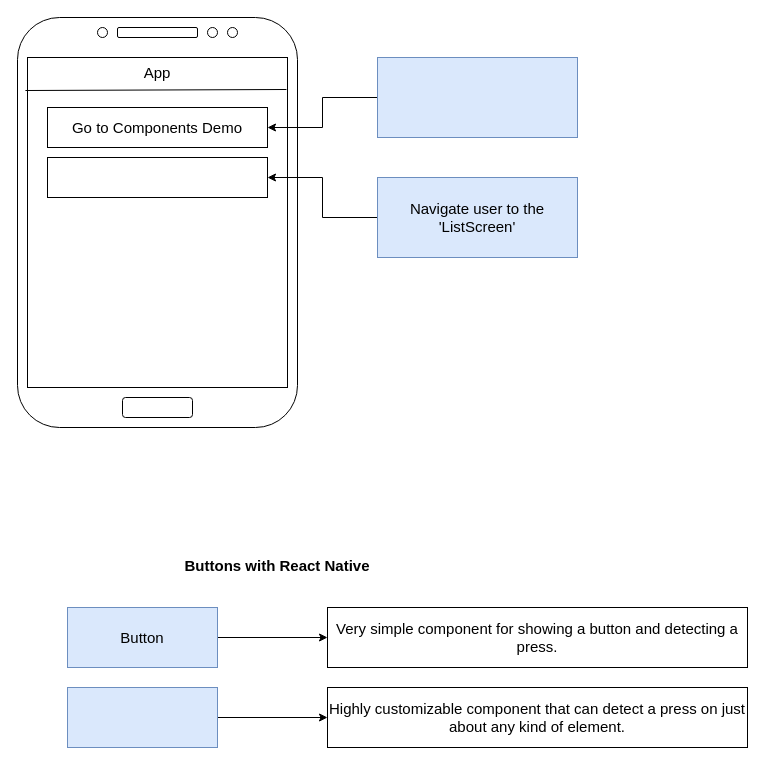
Some shapes in this 765 by 765 pixel diagram are drawn without their labels. The shapes that lost their labels are listed below. From the top down, each one's box as (x1, y1, x2, y2) in pixels, then its label:
(376, 56, 578, 138): Navigate user to the 'ComponentScreen'
(46, 156, 268, 198): Go to List Demo
(66, 686, 218, 748): TouchableOpacity
